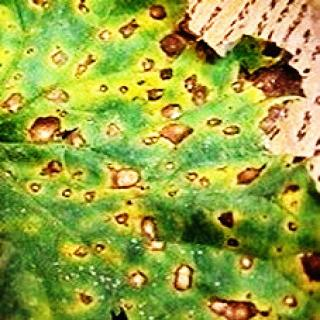leaf spot: (12, 1, 316, 263)
